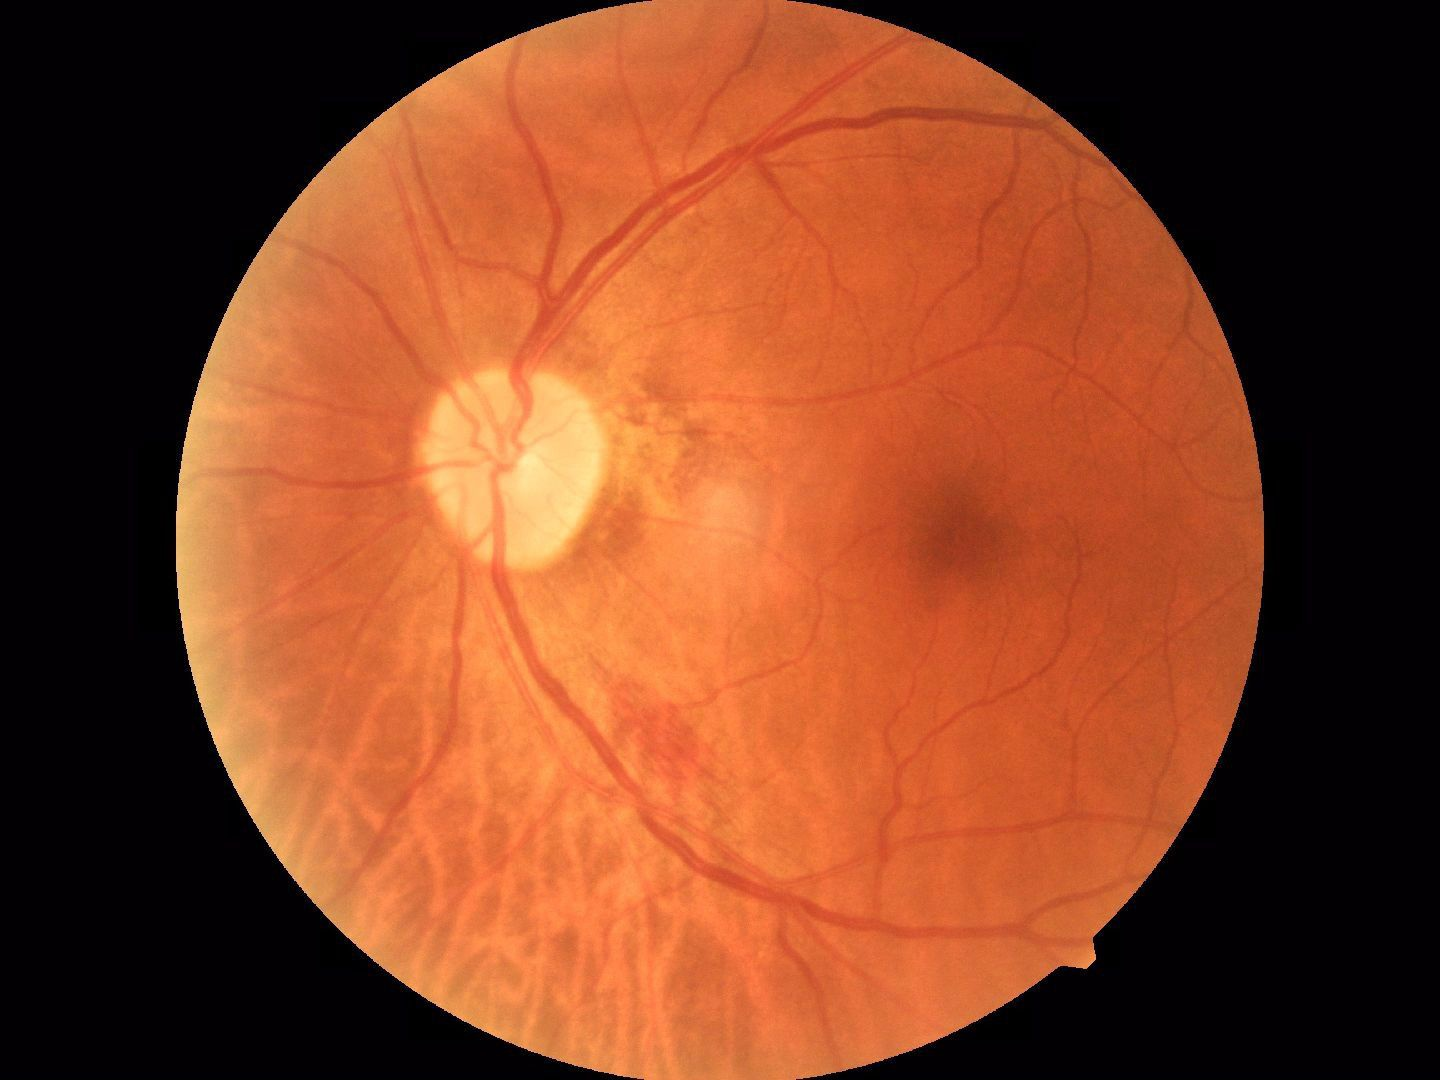Arterioles: (981, 208, 1160, 421)
Hemorrhages: (899, 448, 1054, 613)
Microaneurysms: (619, 684, 730, 781)
Optic-Disc: (409, 368, 609, 563)
Venules: (518, 170, 691, 317), (489, 606, 595, 775)
